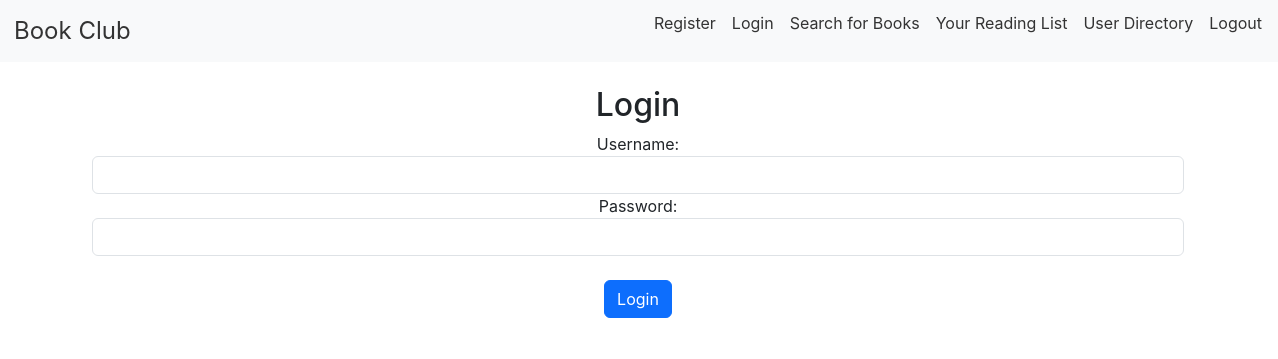
Scenario: Login Test › should display an error message on login failure
The image size is (1278, 359).
Type "wronguser" into the field named "username" at point(638, 175), box top-left (92, 156), bottom-right (1184, 194)
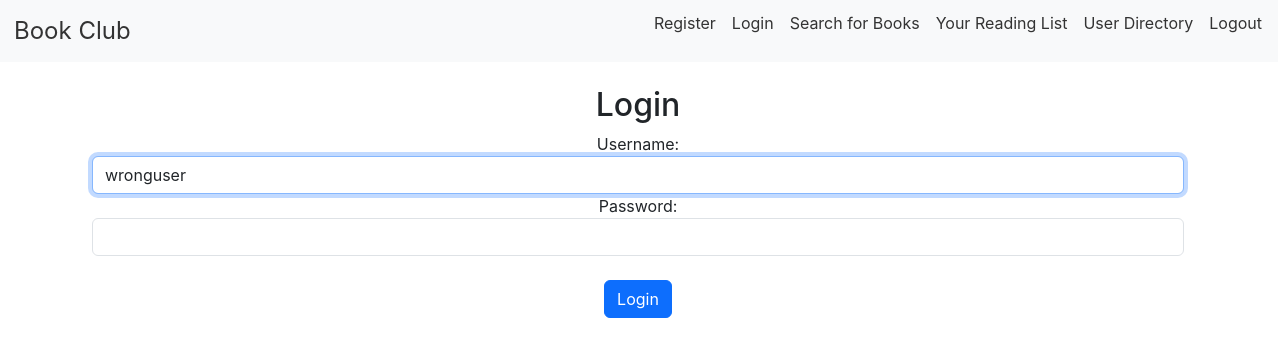
Type "wrongpassword" into the password field named "password" at point(638, 237), box top-left (92, 218), bottom-right (1184, 256)
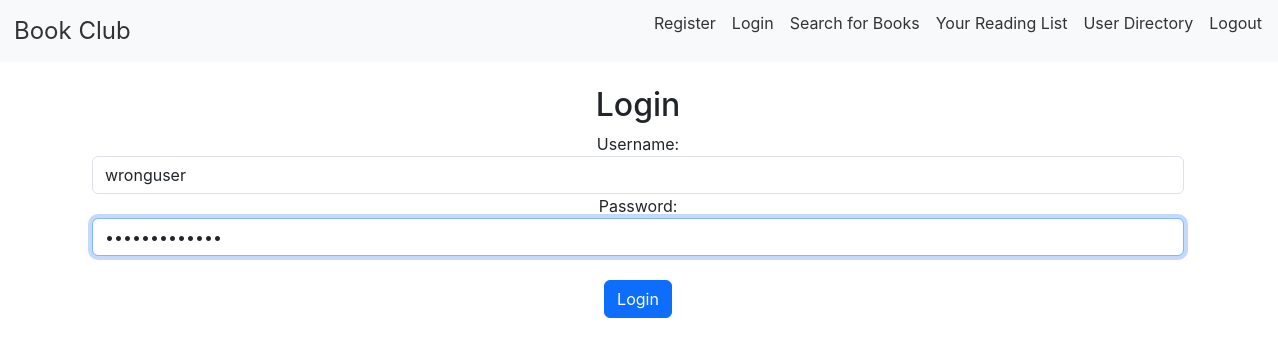
Submit the form, box top-left (92, 132), bottom-right (1184, 318)
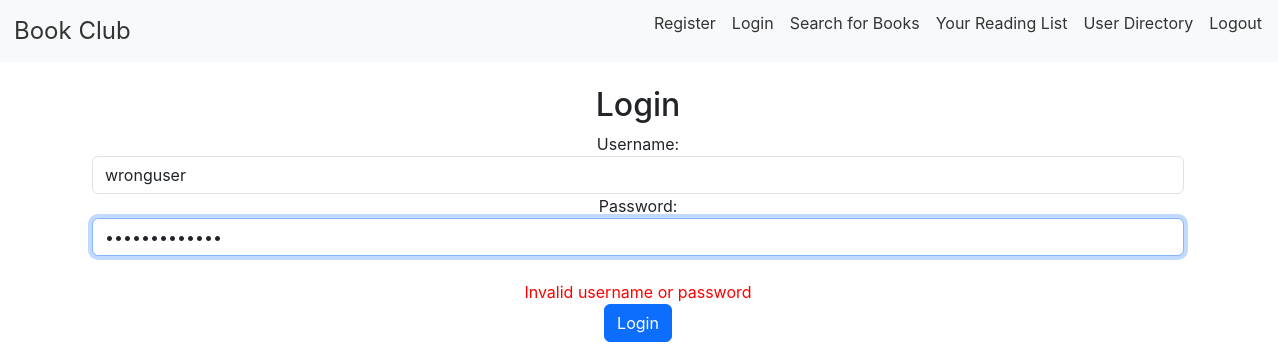
Result: the text with class "error-message" reads "Invalid username or password" at top-left (524, 282), bottom-right (751, 302)
